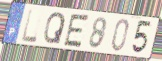0: (110, 18, 130, 53)
5: (130, 20, 154, 56)
8: (88, 17, 108, 50)
E: (62, 13, 91, 50)
L: (20, 9, 38, 44)
Q: (42, 11, 67, 46)
